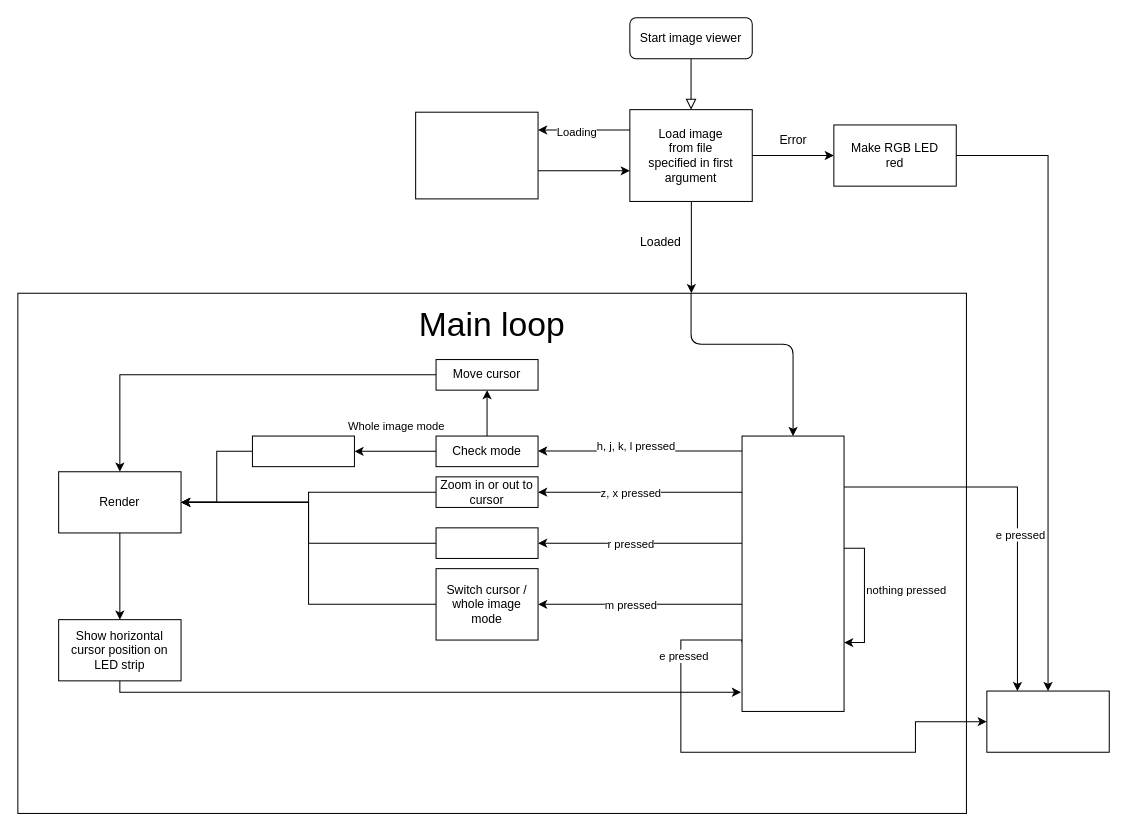
Image size: 1127x831. Some labels were removed from this diagram. Here are the shapes that lost their labels. From the top down, the centre of each, then its label:
At point 476,155: "Show progress on LED strip".
At point 302,451: "Move whole image".
At point 486,542: "Reset zoom and cursor".
At point 792,573: "Check input".
At point 1047,721: "Terminate program".
